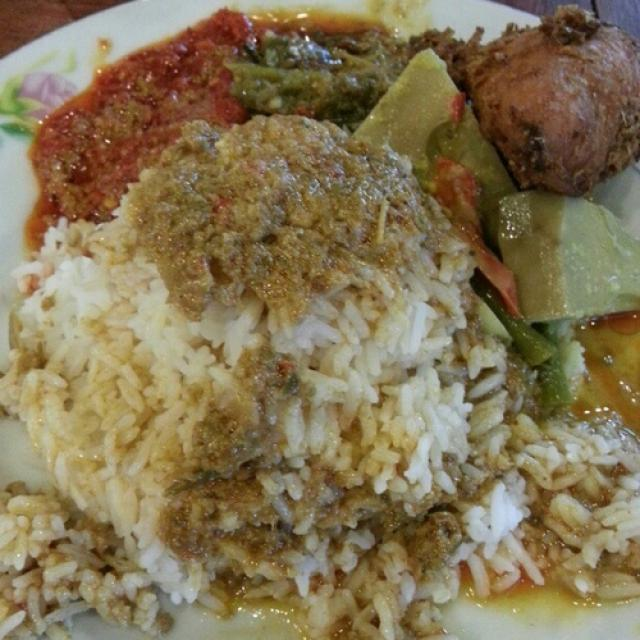米饭主食: (12, 21, 620, 613)
